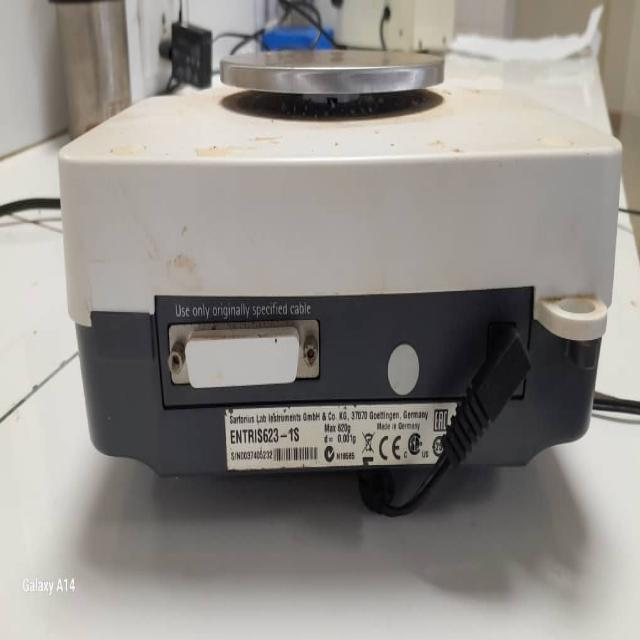Electronic balance: (37, 18, 617, 486)
